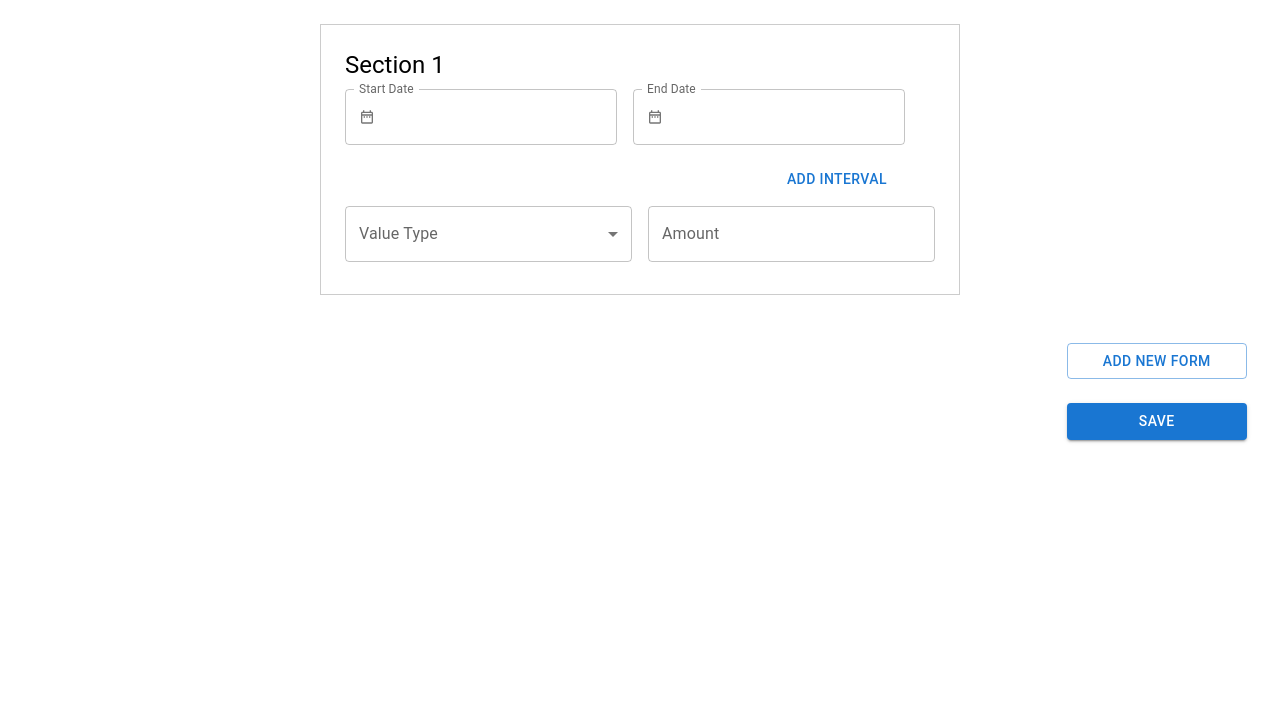
FormComponent › add new form line
Click the button "Add New Form" at [1157, 361], box [1067,342,1247,379]
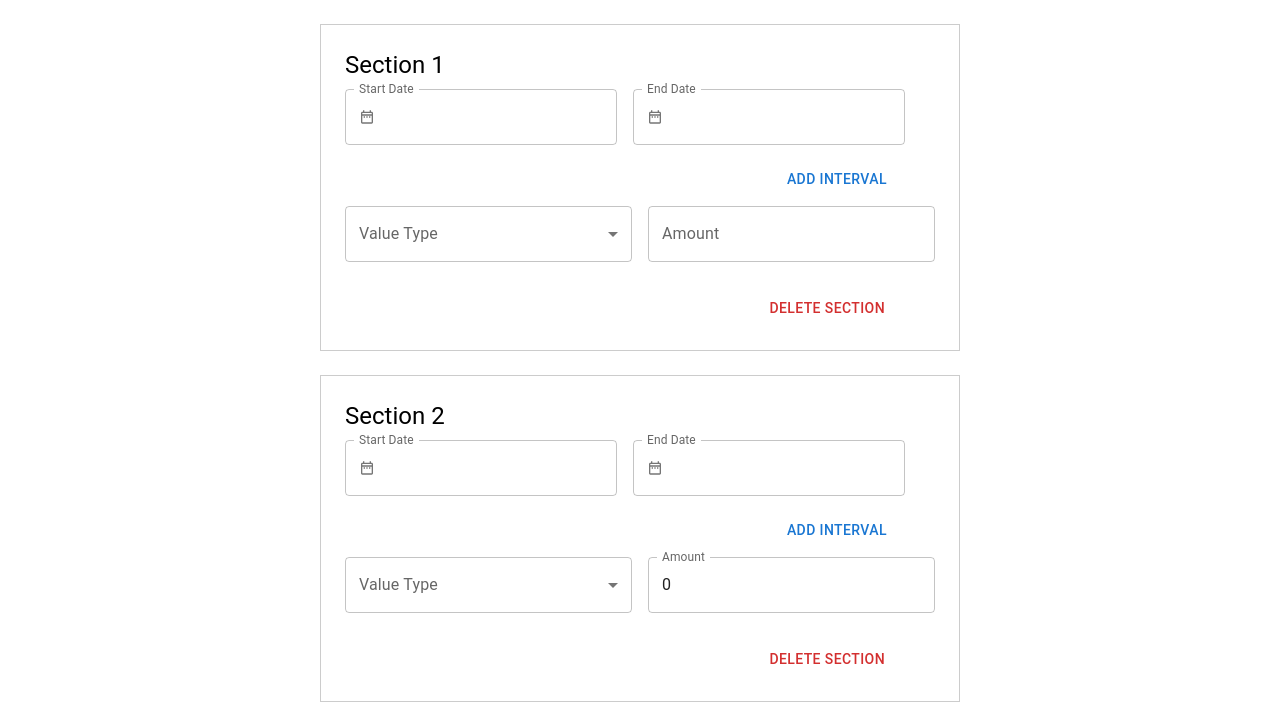
Expected: the number of fields labelled "Start Date" is 2, [383,89,617,145]; [383,440,617,496]
Result: the number of number fields labelled "Amount" is 2 at [648,206,913,262]; [648,556,913,612]
Result: the number of buttons "Add Interval" is 2 at [779,161,895,198]; [779,512,895,548]
